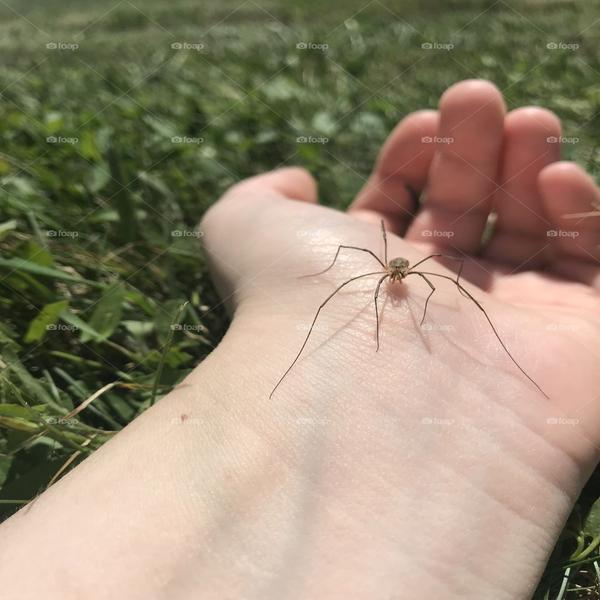Daddy Long Legs Spider: (275, 222, 546, 397)
